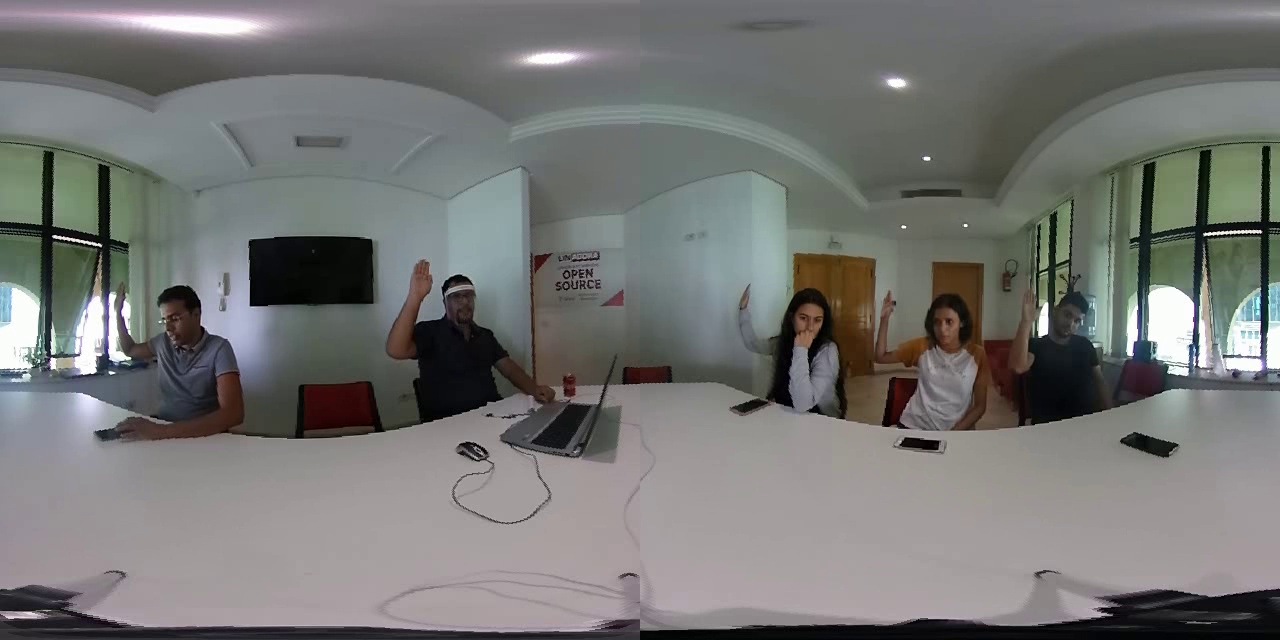person: (363, 246, 553, 425), (90, 281, 258, 453), (719, 281, 849, 431), (873, 277, 989, 432), (1007, 285, 1125, 420)
voting: (381, 258, 441, 366), (103, 279, 156, 378), (1006, 287, 1055, 379), (866, 285, 913, 380), (734, 280, 784, 361)
